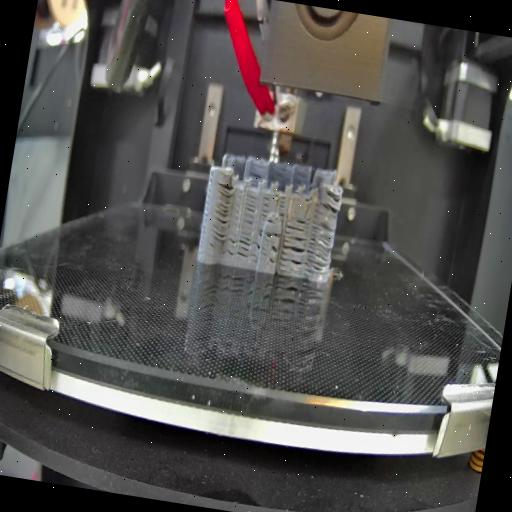cracks: (205, 181, 235, 251), (278, 216, 312, 276), (304, 220, 336, 274), (250, 226, 282, 266), (314, 190, 343, 218), (241, 195, 256, 226), (222, 230, 237, 260), (234, 236, 250, 260), (256, 196, 270, 220), (274, 196, 288, 218), (246, 170, 264, 182), (300, 194, 313, 203)
